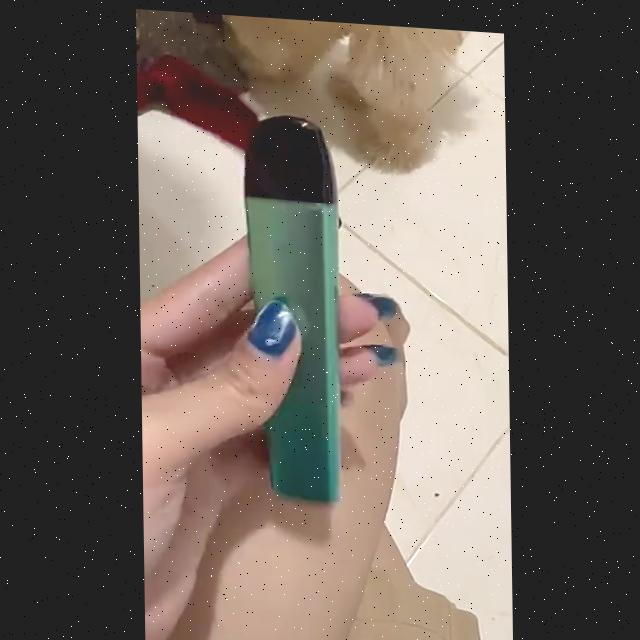vape: (244, 111, 341, 497)
